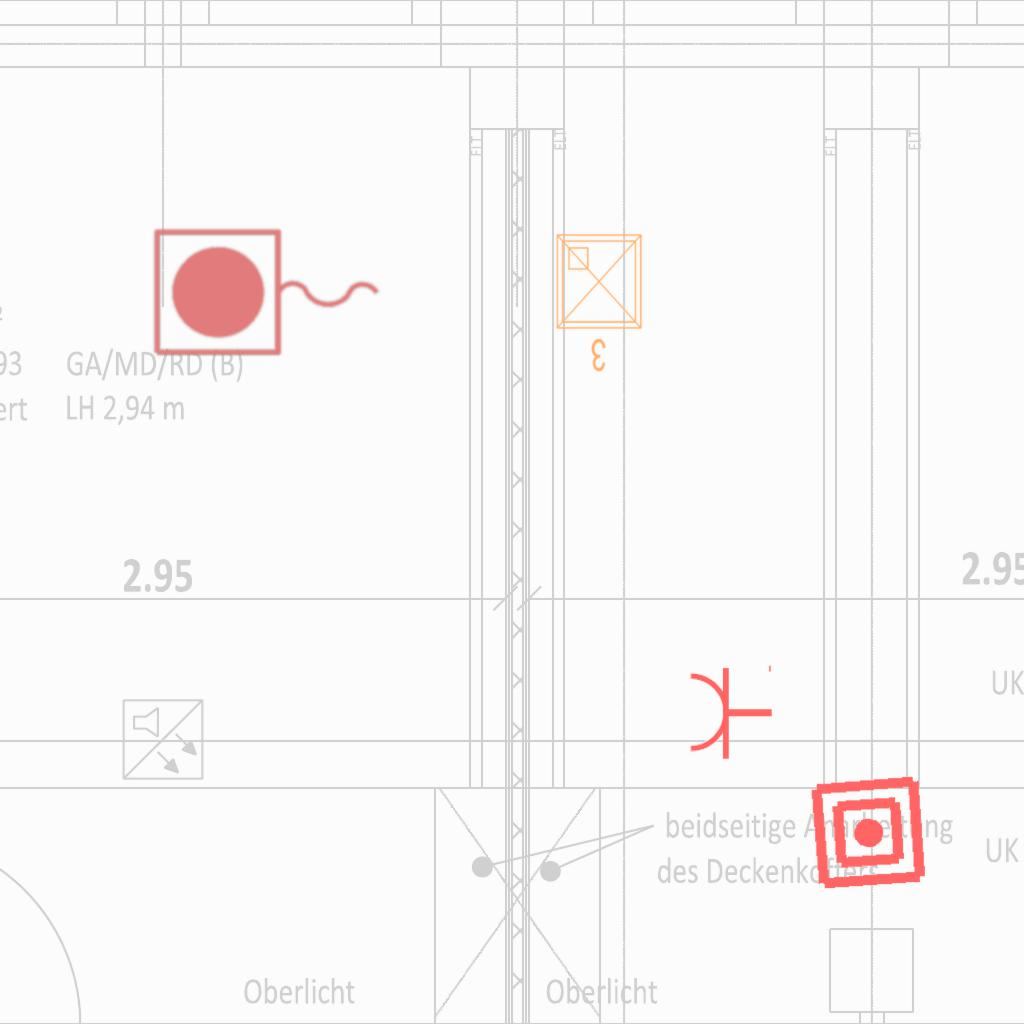Einbaudownlights_LED_Konferenzraeume: (549, 227, 653, 377)
NAM-Nichtautomatischer_Melder: (808, 772, 929, 893)
Schukosteckdose_einfach: (687, 661, 774, 761)
Zugtaster: (146, 222, 390, 366)
